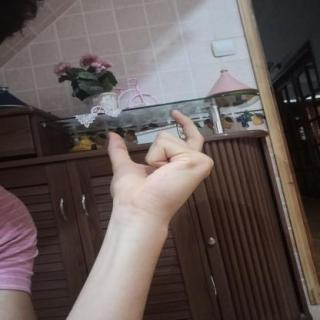NOON: (90, 100, 227, 230)
